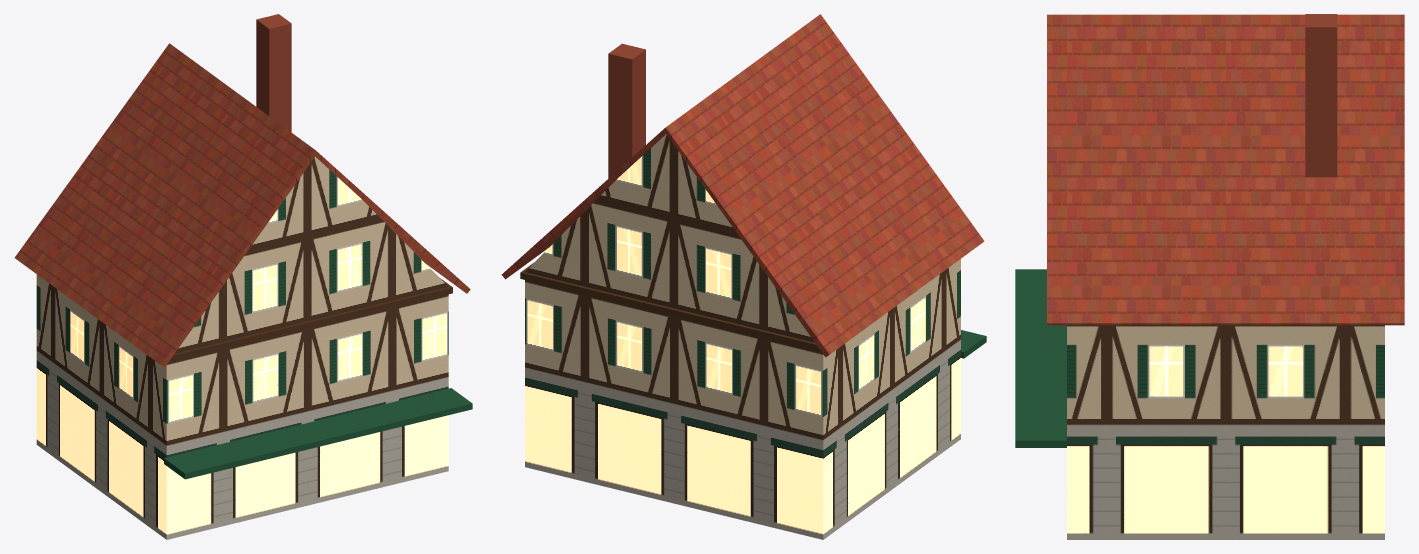
File: eu_shop_b.glb
3 renders of one model, left to right at view 1: azimuth 30°, elevation 25°; view 2: azimuth 150°, elevation 25°; view 3: azimuth 270°, elevation 25°, orthographic. The views are drawn at different scales.
Parts seen in each view (by area): view 1: roof; view 2: roof; view 3: roof.
Part boxes in pixels (<box>): roof: <box>14,14,472,539</box>; roof: <box>501,14,986,539</box>; roof: <box>1015,14,1404,539</box>.
Size of the model in its own units: 11 by 13.25 by 9.8.
6 materials, 3 textured.
